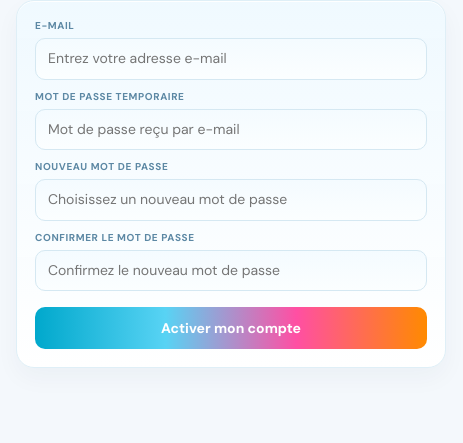
Scenario: ActivateAccount › cree une session directement si la reponse contient un utilisateurId
In the field labelled "E-mail": coordinates (231, 59) [35,38,427,80], type "user@exemple.com"
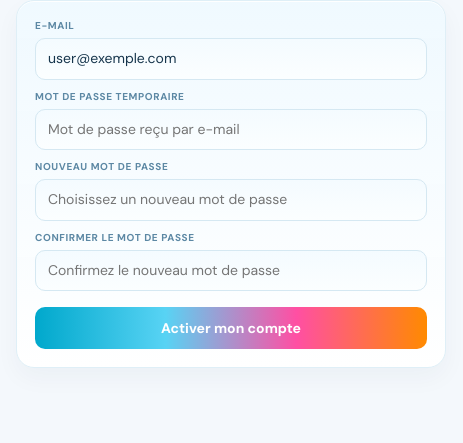
In the field labelled "Mot de passe temporaire": coordinates (231, 129) [35,109,427,150], type "temp123"
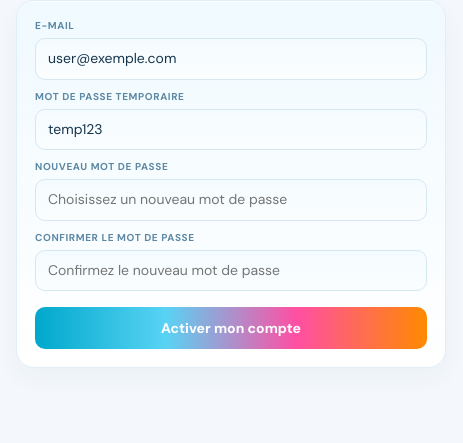
In the password field labelled "Nouveau mot de passe": coordinates (231, 200) [35,179,427,221], type "NewPass123"
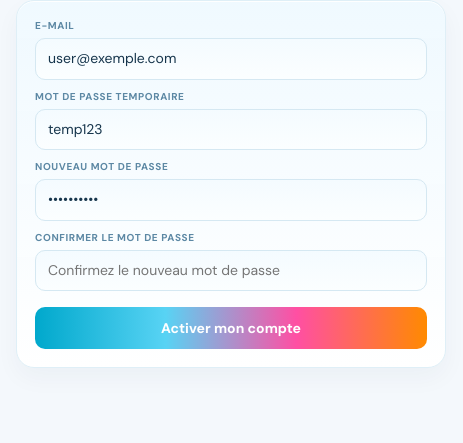
In the password field labelled "Confirmer le mot de passe": coordinates (231, 271) [35,250,427,291], type "NewPass123"
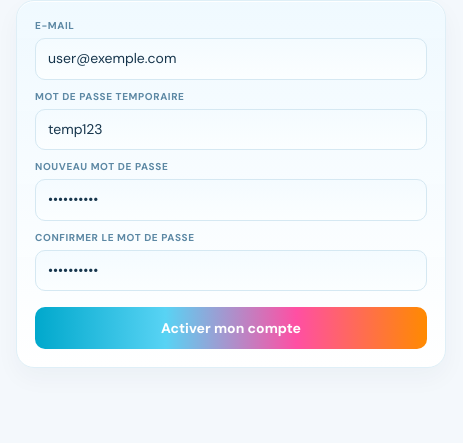
Click the button "Activer mon compte": coordinates (231, 328) [35,307,427,349]
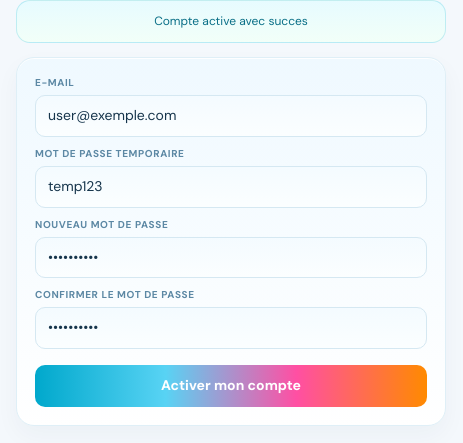
Expected: the text "Compte active avec succes" is shown, [16,0,446,43]
